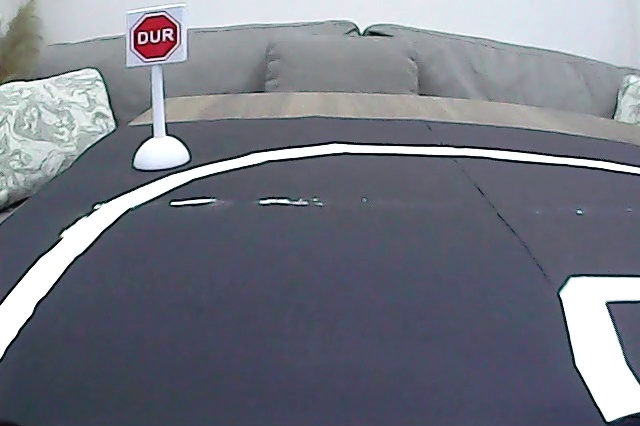stop sign: (131, 12, 181, 63)
